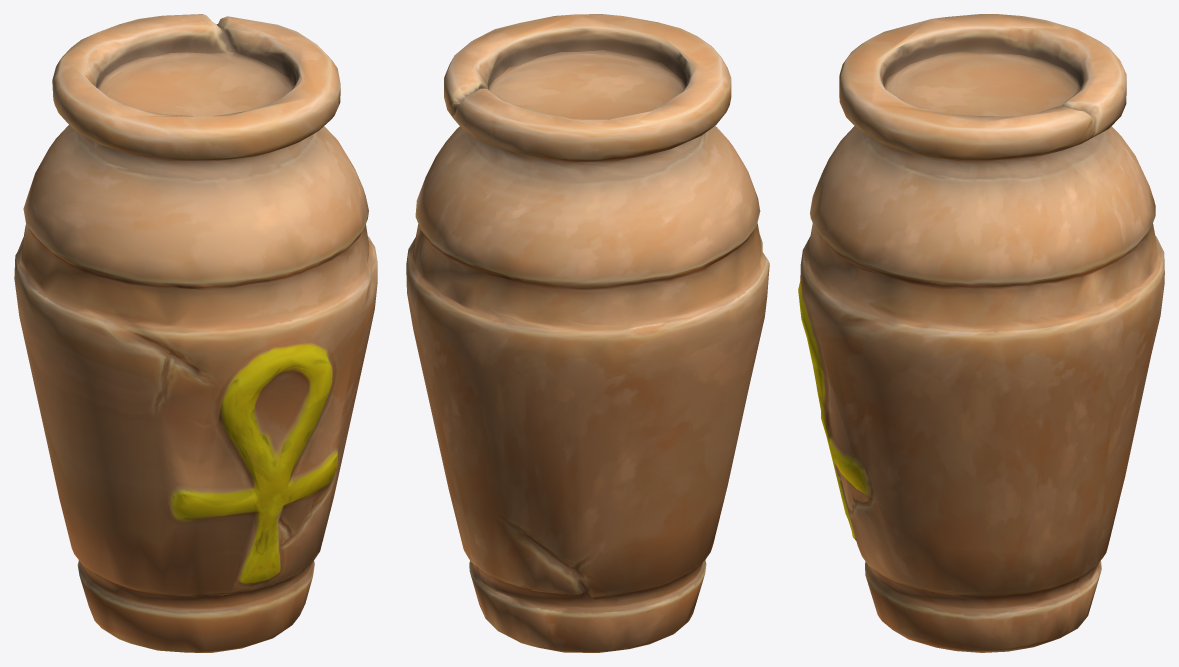
File: pot1.fbx
3 renders of one model, left to right at view 1: azimuth 30°, elevation 25°; view 2: azimuth 150°, elevation 25°; view 3: azimuth 270°, elevation 25°, orthographic.
Visible parts, largest first — view 1: pot_L.001; view 2: pot_L.001; view 3: pot_L.001.
Boxes of the visible parts, bbox=[...] form: pot_L.001: bbox=[14, 14, 377, 652]; pot_L.001: bbox=[406, 14, 769, 652]; pot_L.001: bbox=[798, 14, 1164, 652].
Bounding box in the file's own units: 277 × 455 × 280.
1 material, 1 textured.
